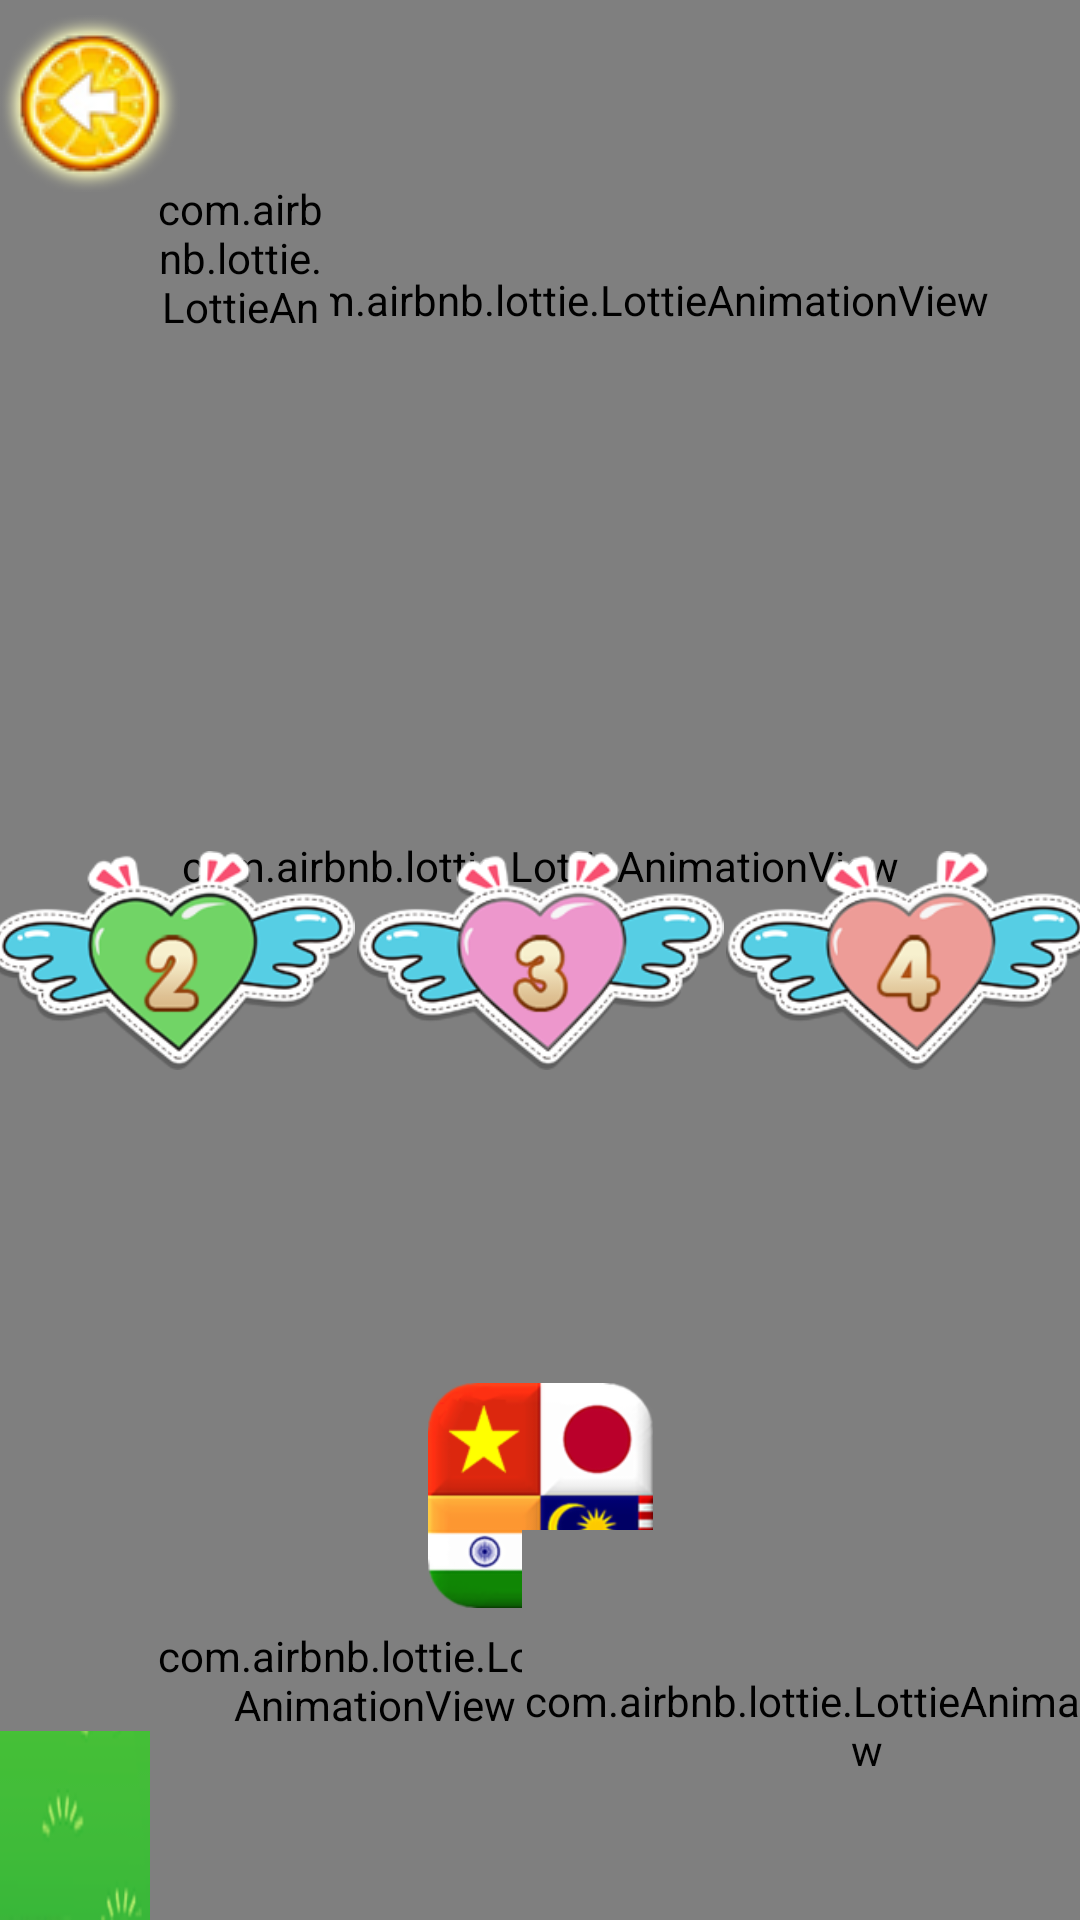

Icon click points for this 1080px×1920px phone screenshot, format (x=x, y=y):
asia mult pics: (x=540, y=1495)
back: (x=90, y=103)
